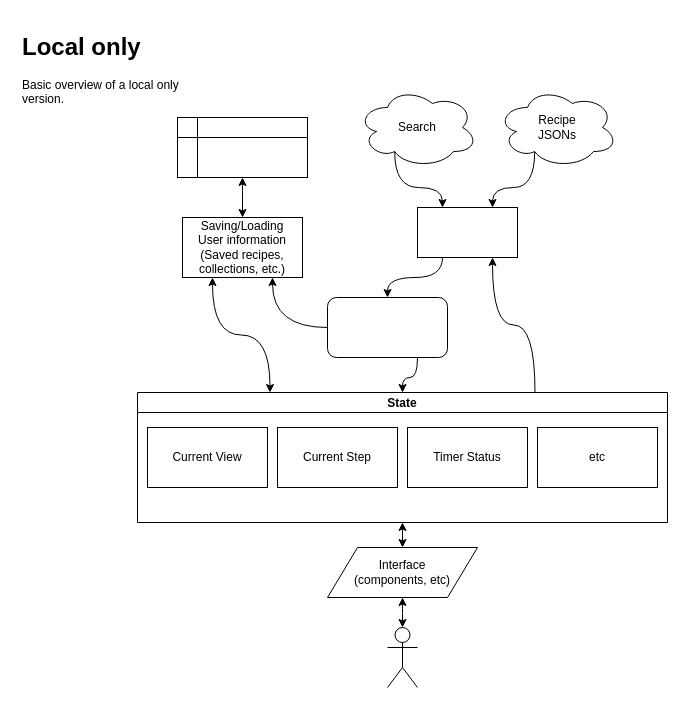
The diagram is 685 pixels wide and 725 high, and some of its shapes have lost their labels. Each missing label, with the centre of its shape:
"Actor" belongs at (x=402, y=657).
"fetch API" belongs at (x=467, y=232).
"localStorage" belongs at (x=242, y=147).
"Scraping and cleaning data" belongs at (x=387, y=327).
